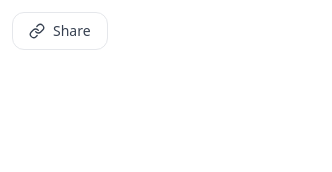
Test case: CopyLinkButton › shows Copied! after successful clipboard write
Click the button titled "Copy shareable link".
click(60, 31)  # box [12,12,108,50]
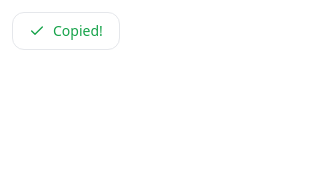
Now the text "Copied!" is shown, box [53,21,103,41]
